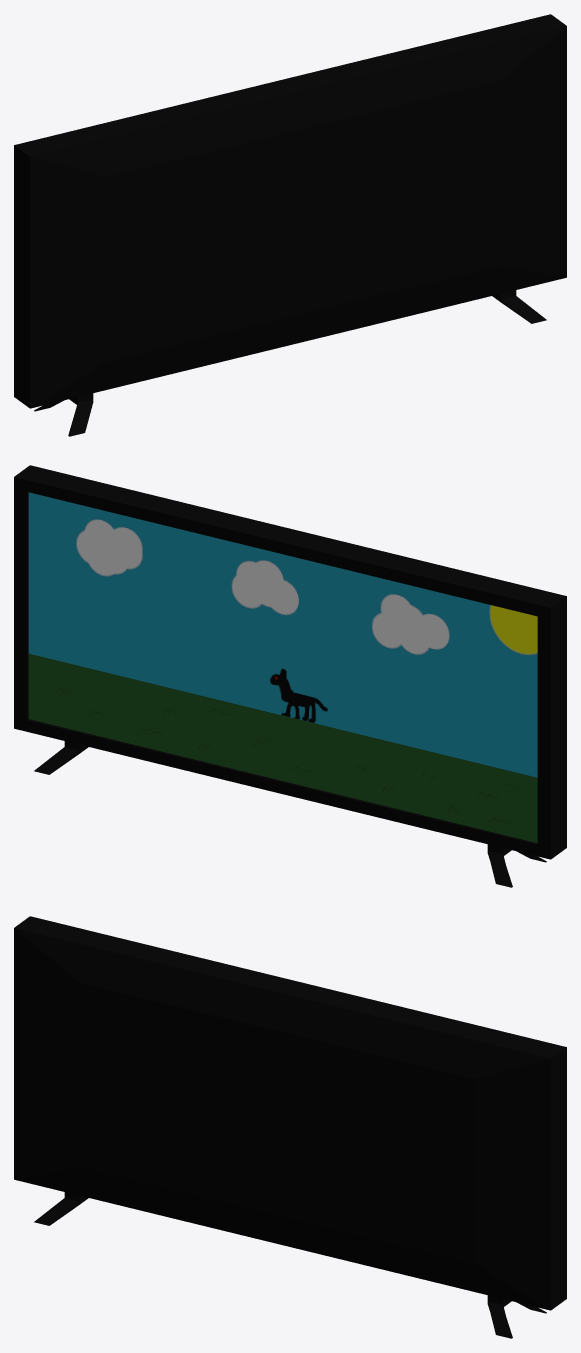
3 views of the same model, one above another, from view 1: azimuth 30°, elevation 25°; view 2: azimuth 150°, elevation 25°; view 3: azimuth 330°, elevation 25° (orthographic).
Visible parts, largest first — view 1: Tv; view 2: Tv; view 3: Tv.
Part boxes in pixels (x1,y1,x2,y2): Tv: (14,14,566,436); Tv: (14,465,566,887); Tv: (14,916,566,1338).
Size of the model in its own units: 0.6848 by 0.0788 by 0.3411.
